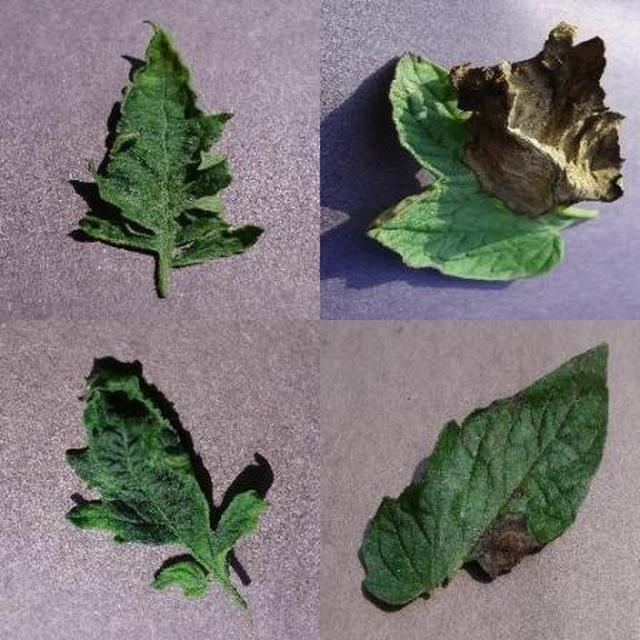Mosaic Virus Leaf: (245, 205, 640, 640)
